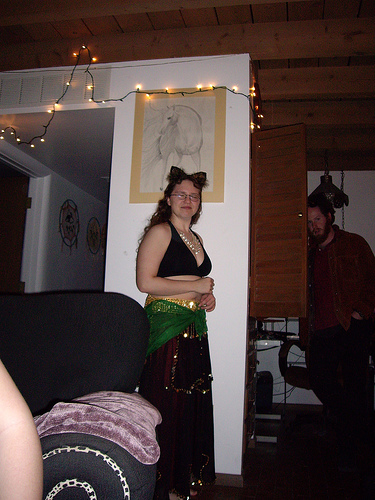without_mask: (164, 178, 202, 221), (305, 202, 337, 242)
